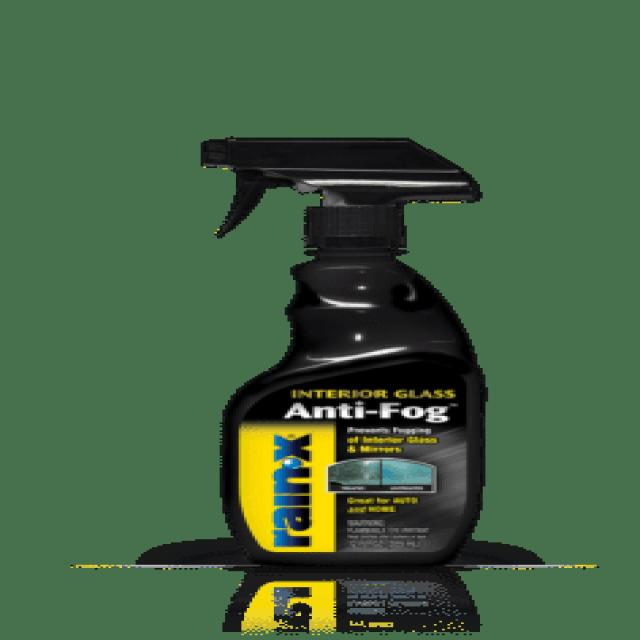winwinshield_washer: (196, 135, 495, 571)
